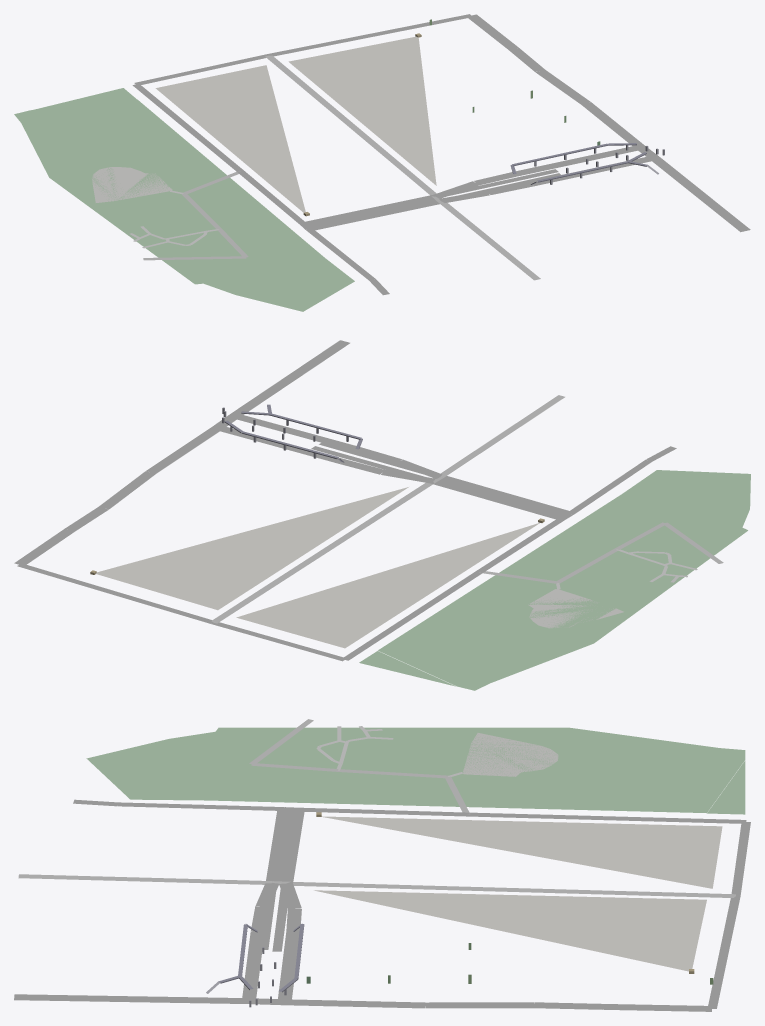
3 views of the same model, one above another, from view 1: azimuth 30°, elevation 25°; view 2: azimuth 150°, elevation 25°; view 3: azimuth 270°, elevation 25° (orthographic). The views are drawn at different scales.
Bounding box in the file's own units: 517 × 9.82 × 549.
